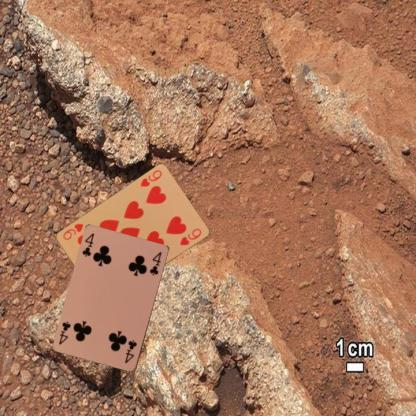4c: (80, 230, 96, 258), (122, 338, 138, 364)
9h: (137, 167, 163, 188)
